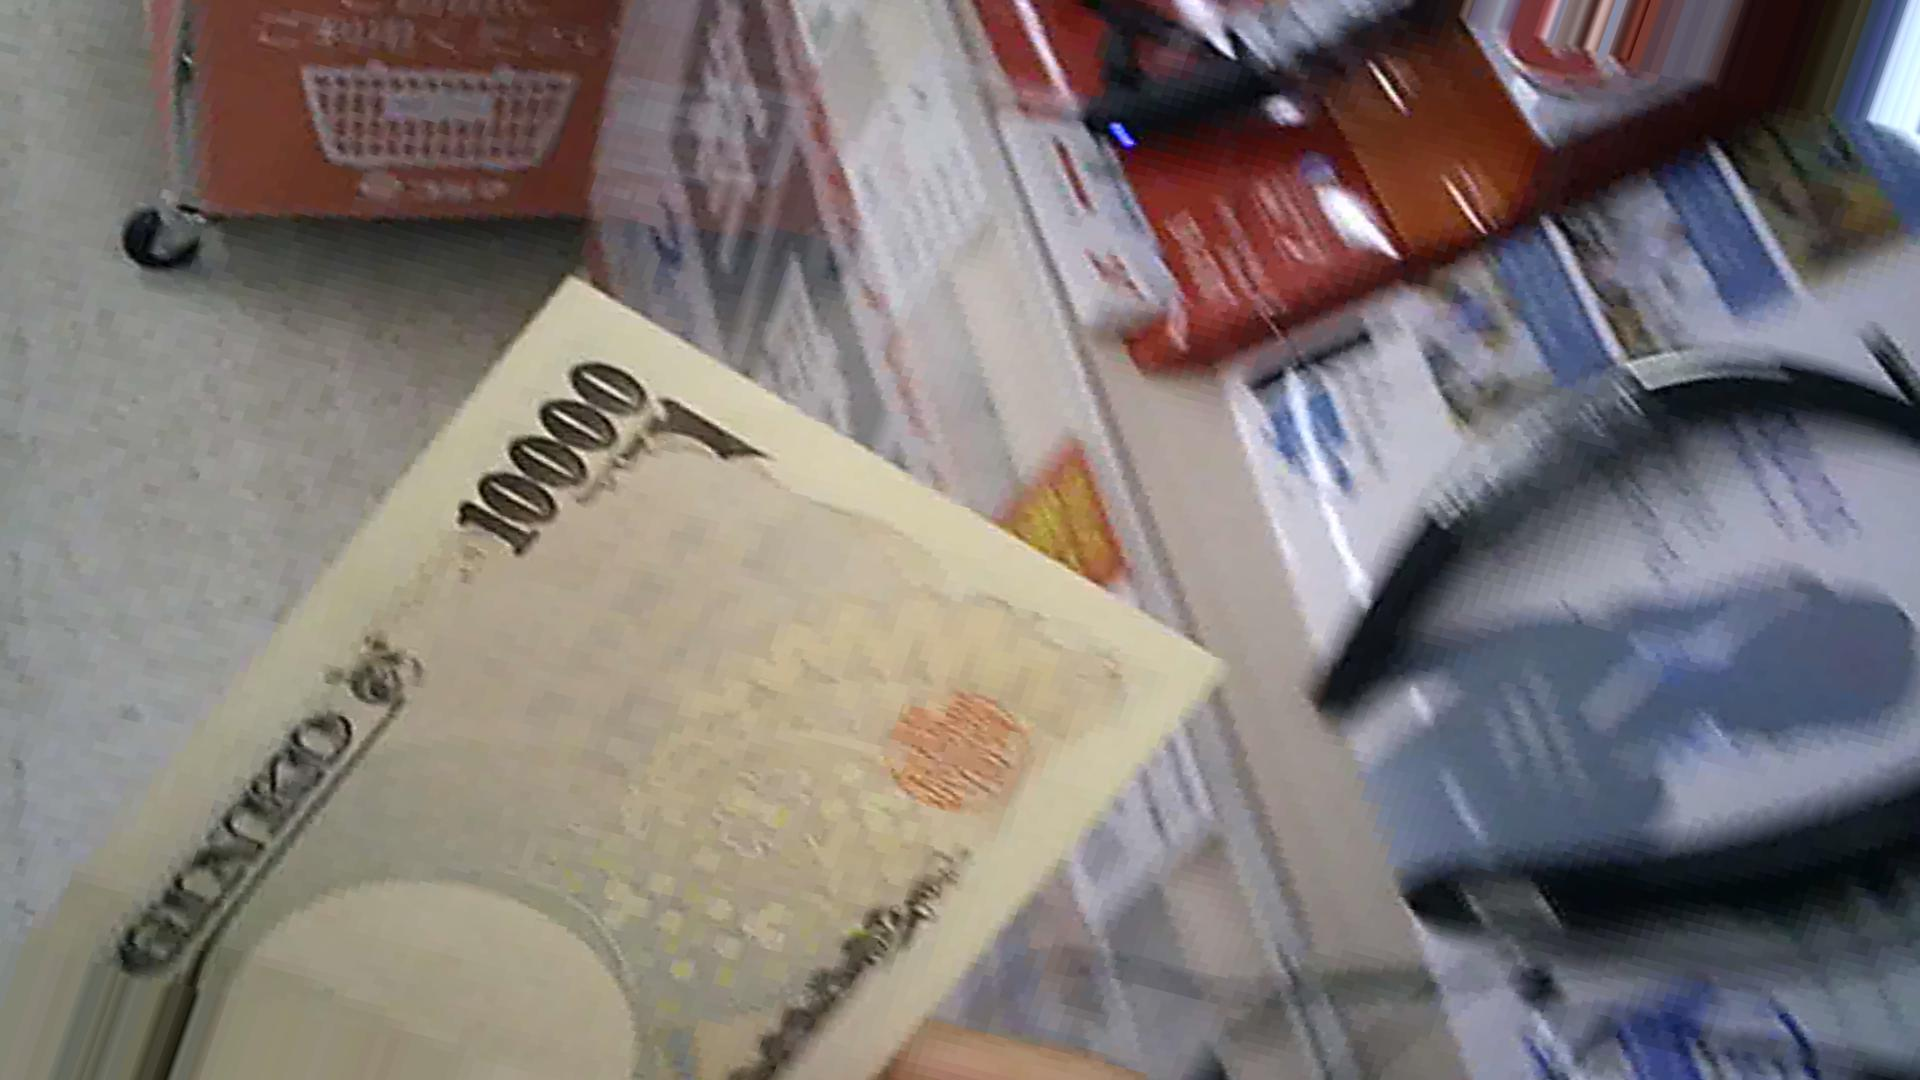10,000 Yen: (47, 265, 1195, 1062)
